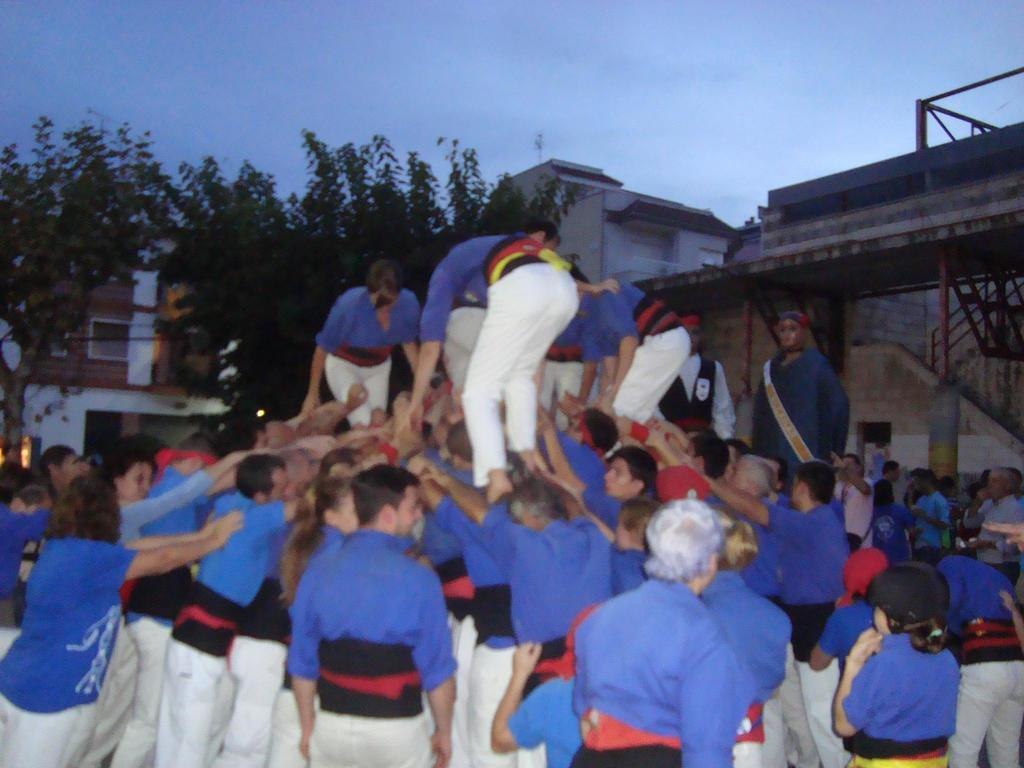Human_hand: (848, 626, 884, 667), (512, 642, 545, 676), (979, 522, 1023, 545), (213, 509, 241, 545), (428, 732, 454, 767), (300, 437, 340, 456), (404, 452, 433, 477), (347, 381, 372, 408), (300, 724, 315, 764), (999, 589, 1020, 616), (406, 401, 426, 425), (644, 428, 666, 449), (299, 396, 320, 416), (657, 419, 680, 436), (832, 454, 844, 468)
